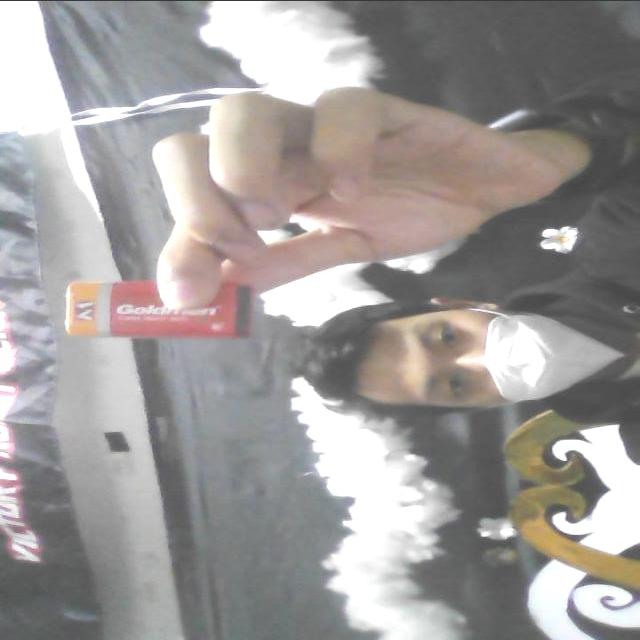9V: (46, 278, 259, 343)
